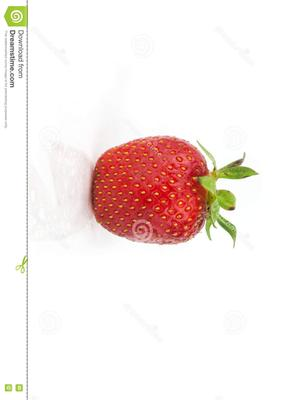strawberry: (0, 0, 287, 400)
